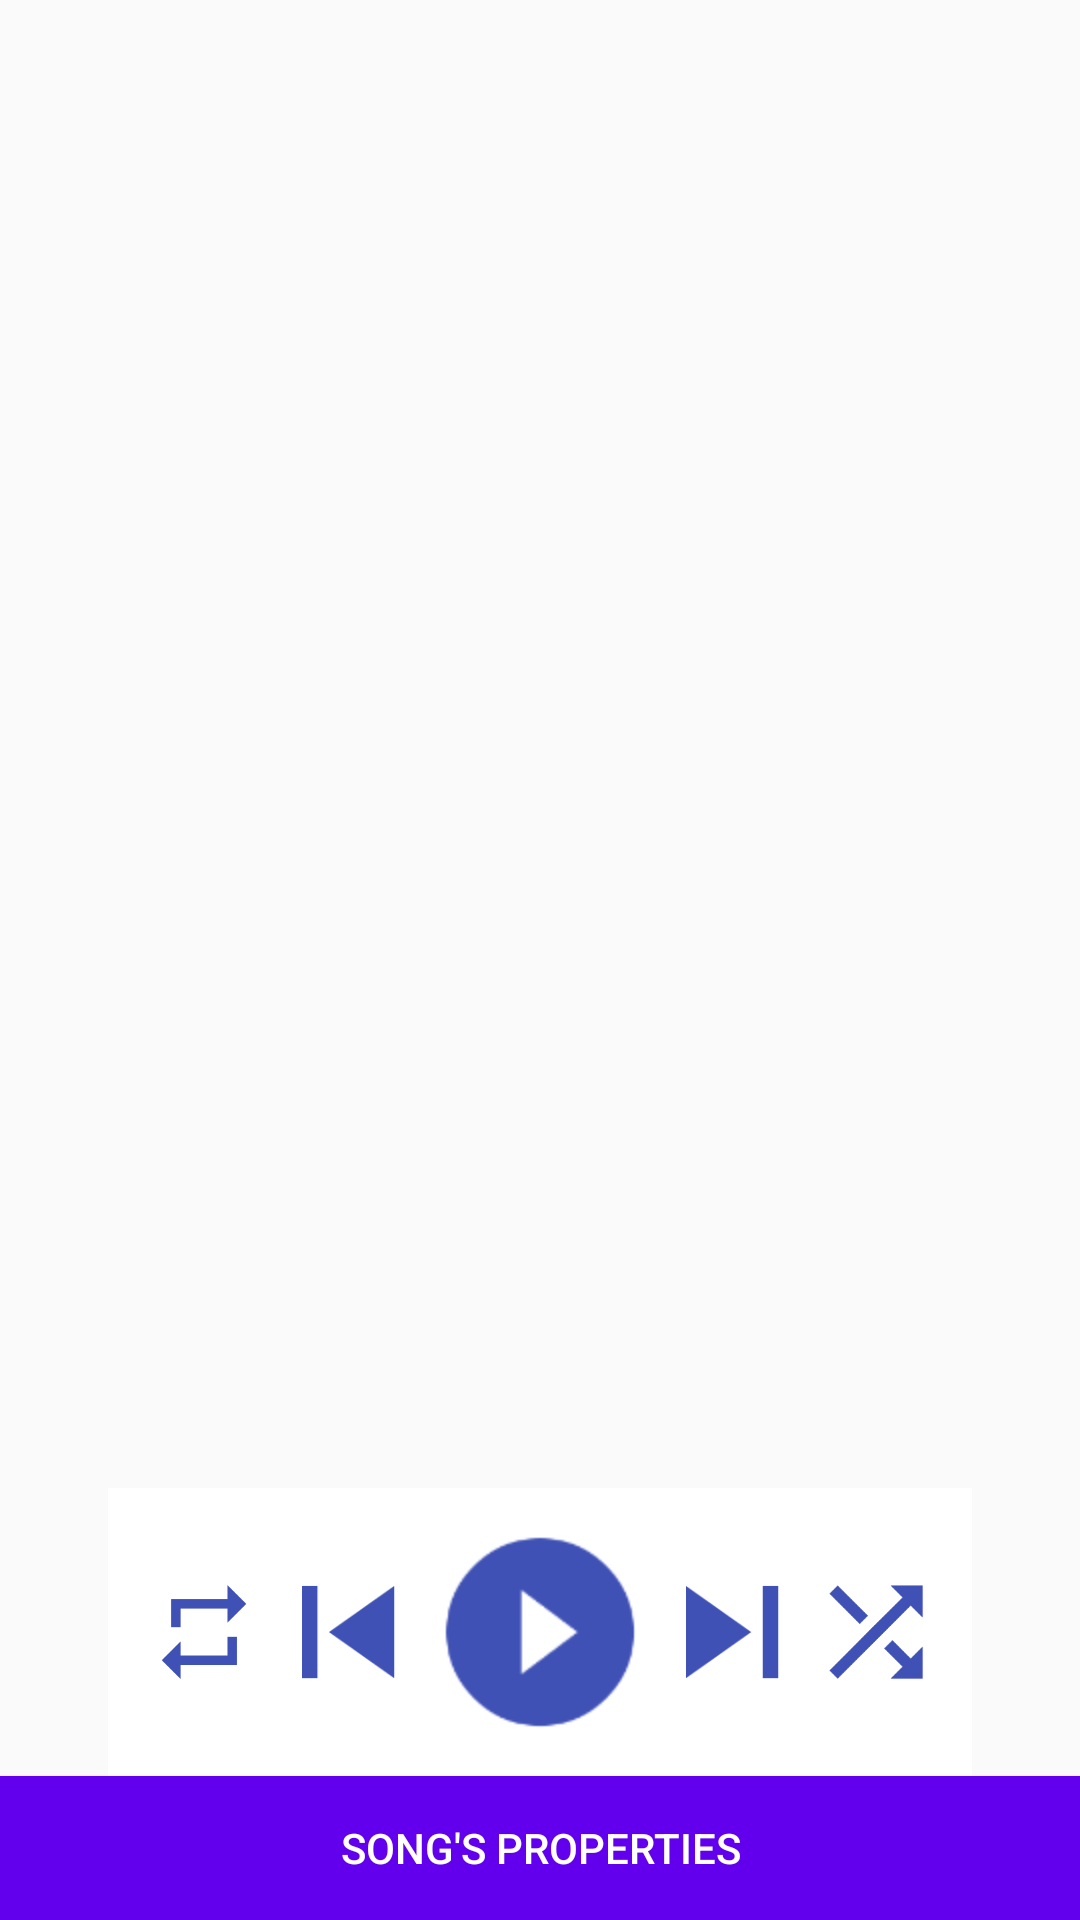

Icon click points for this 1080 x 1920 phone screenshot, format [x,y]:
next song: [732,1632]
play song: [540,1632]
previous song: [348,1632]
random song: [876,1632]
repeat song: [204,1632]
